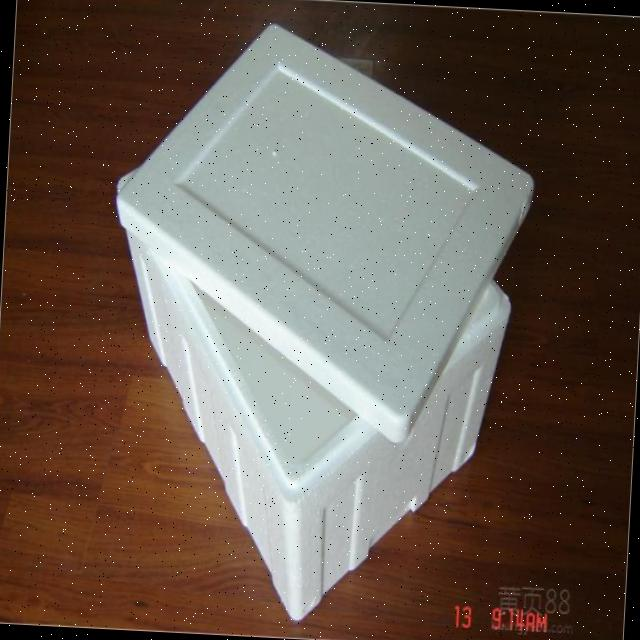styrofoam: (92, 13, 542, 634)
